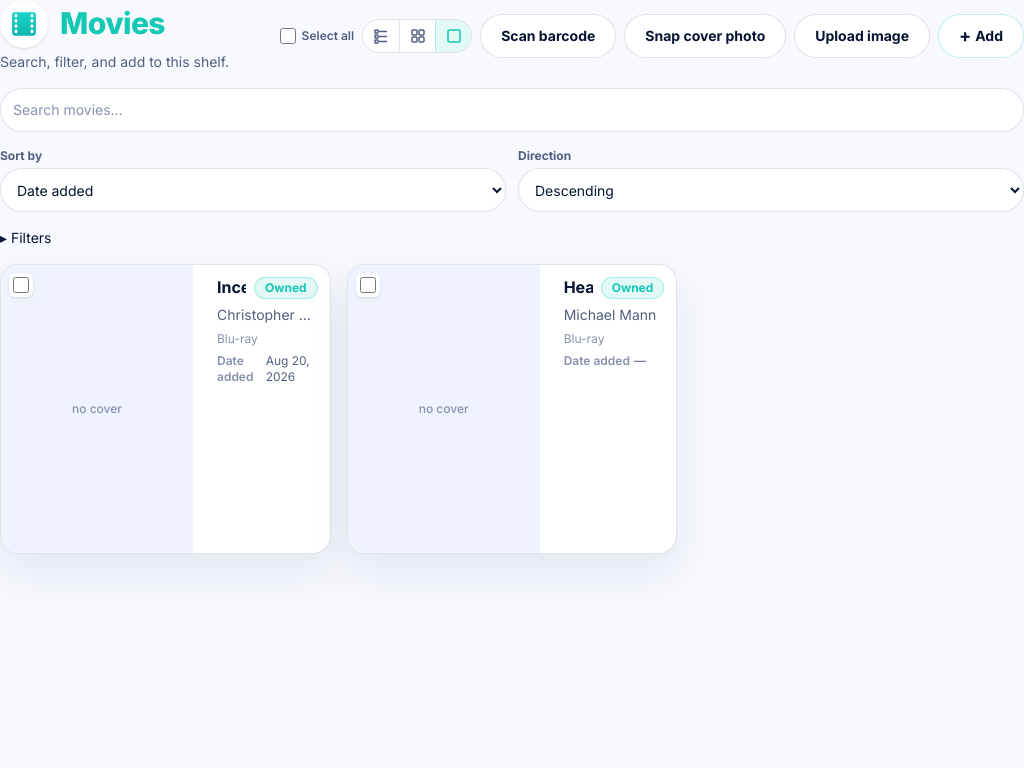
Test: CollectionList — bulk select + update › Cancel closes the modal and sends nothing
Check: the heading "Inception" is shown, box [217,277,246,297]
Step 1. Click the checkbox named "Select item" in the row of "Inception" → x=21, y=285, box [13,277,29,293]
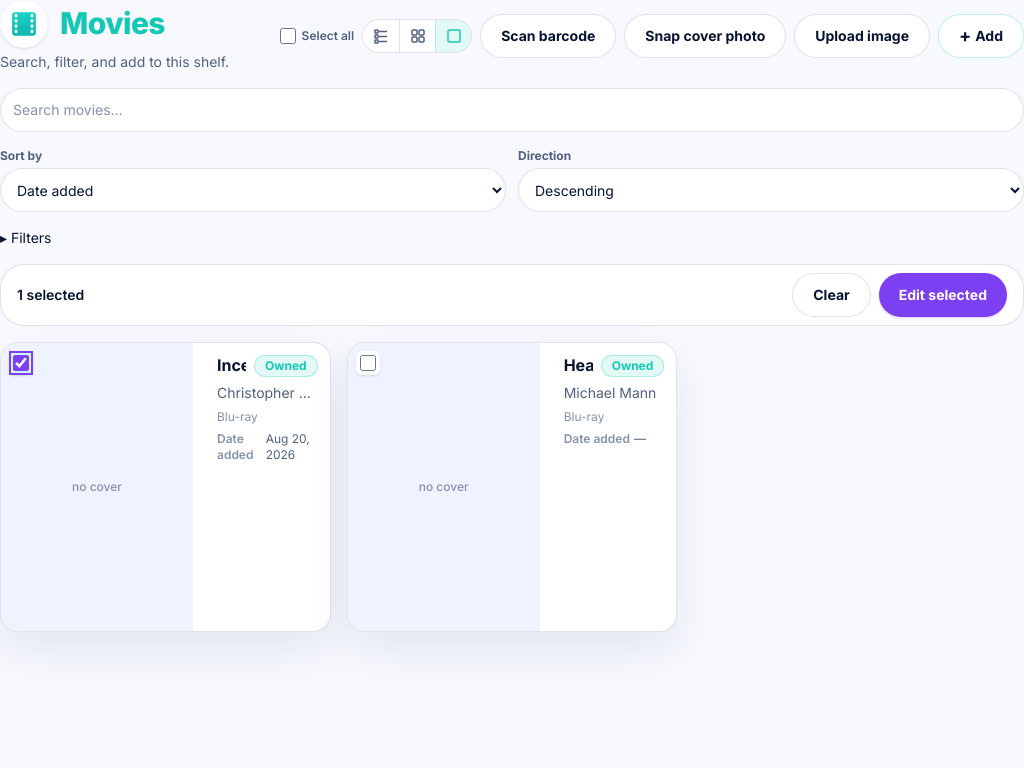
Step 2. Click the button "Edit selected" → x=943, y=295, box [879,273,1007,317]
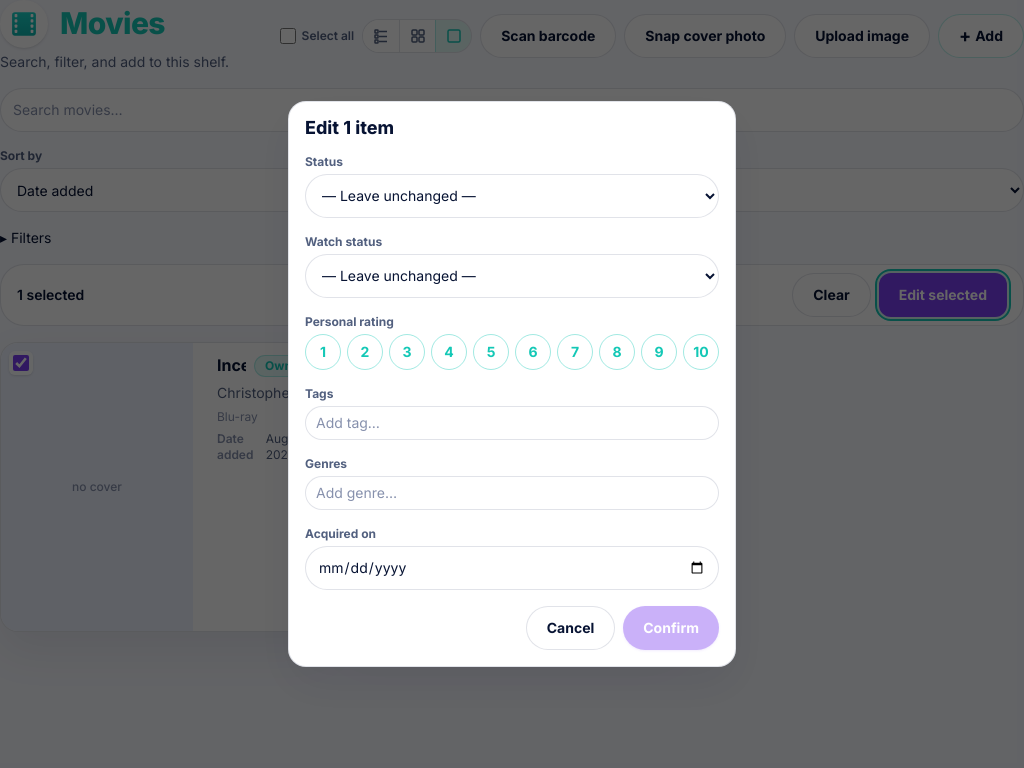
Step 3. Click the button "Cancel" → x=570, y=628, box [526,606,615,650]
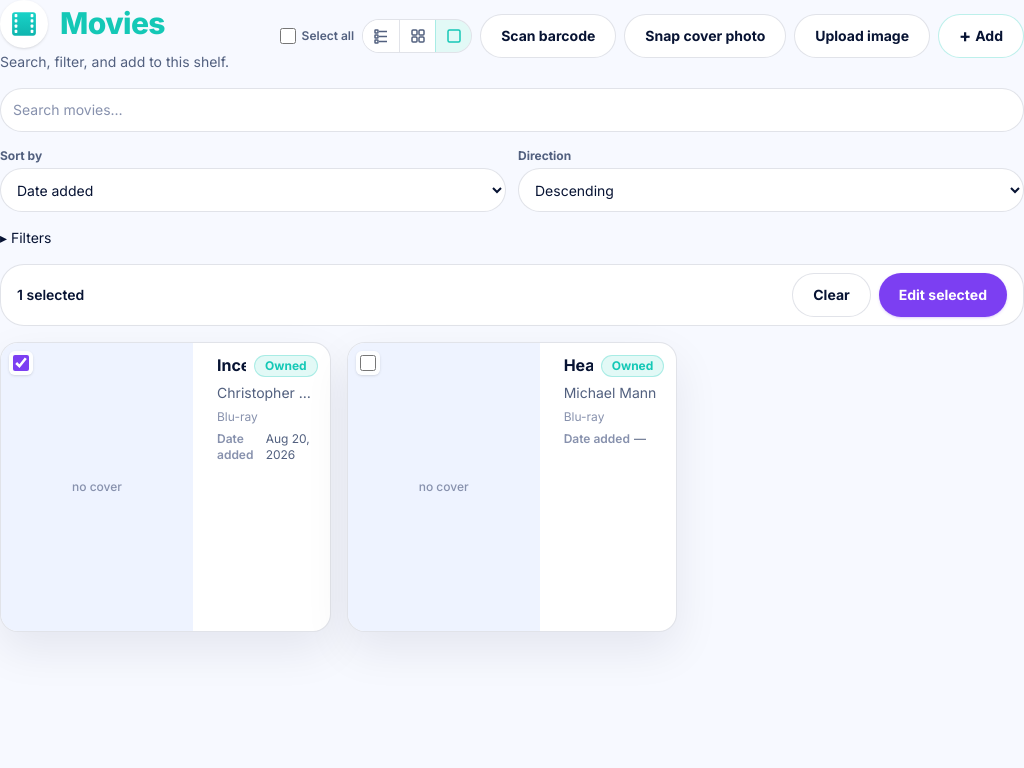
Check: the text "1 selected" is shown, box [17,285,84,305]
Check: the button "Confirm" is gone
